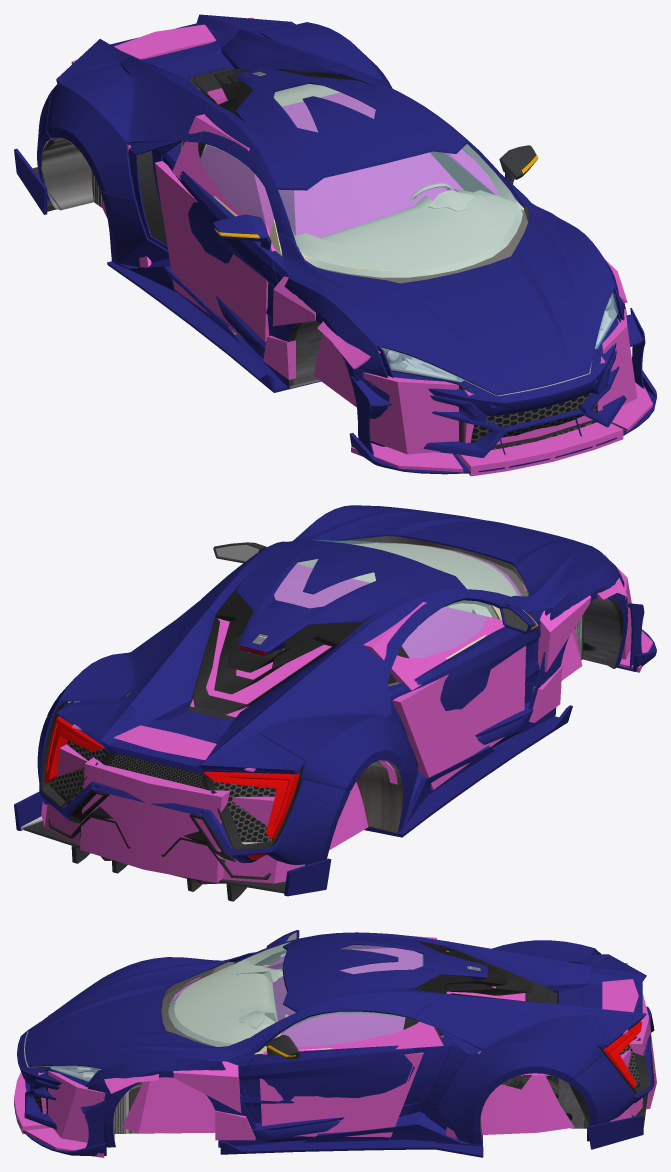
The model's file is Lykan.fbx.
3 renders of one model, top to bottom at view 1: azimuth 30°, elevation 25°; view 2: azimuth 150°, elevation 25°; view 3: azimuth 270°, elevation 25°, orthographic. The views are drawn at different scales.
Visible parts, largest first — view 1: pasted__polySurface84, pasted__polySurface222, pasted__polySurface90, pasted__pasted__pasted__BodyCol1, pasted__DoorFrontRightCol, pasted__pasted__BumperRCol1, pasted__polySurface80, pasted__polySurface2, pasted__polySurface60, polySurface24, pasted__polySurface223, pasted__polySurface85 (+15 smaller); view 2: pasted__polySurface84, pasted__polySurface191, pasted__BumperRCol2, pasted__DoorFrontRightCol, pasted__pasted__pasted__BodyCol1, pasted__polySurface2, pasted__polySurface60, pasted__polySurface80, pasted__polySurface222, pasted__polySurface223, pasted__polySurface16, pasted__SpoilerCol (+8 smaller); view 3: pasted__polySurface84, pasted__polySurface225, pasted__polySurface222, pasted__pasted__pasted__BodyCol1, pasted__DoorFrontLeftCol, pasted__polySurface191, pasted__polySurface82, pasted__polySurface1, pasted__pasted__pasted__BodyCol2, pasted__polySurface90, pasted__polySurface224, pasted__pasted__BumperRCol3 (+12 smaller).
Boxes of the visible parts, x1,y1,x2,y2 form: pasted__polySurface84: (41,14,631,449); pasted__polySurface222: (278,144,523,277); pasted__polySurface90: (344,291,656,474); pasted__pasted__pasted__BodyCol1: (101,88,463,237); pasted__DoorFrontRightCol: (154,161,269,341); pasted__pasted__BumperRCol1: (363,372,458,454); pasted__polySurface80: (46,83,135,198); pasted__polySurface2: (172,114,275,251); pasted__polySurface60: (178,173,282,342); polySurface24: (456,422,623,476); pasted__polySurface223: (200,144,274,232); pasted__polySurface85: (284,278,388,377); pasted__polySurface84: (44,505,629,884); pasted__polySurface191: (14,701,350,901); pasted__BumperRCol2: (80,757,230,882); pasted__DoorFrontRightCol: (392,645,525,789); pasted__pasted__pasted__BodyCol1: (190,564,369,849); pasted__polySurface2: (363,602,504,690); pasted__polySurface60: (416,626,539,737); pasted__polySurface80: (303,715,407,790); pasted__polySurface222: (315,540,521,596); pasted__polySurface223: (402,600,497,658); pasted__polySurface16: (223,796,304,883); pasted__SpoilerCol: (72,724,255,771); pasted__polySurface84: (24,932,646,1157); pasted__polySurface225: (239,1045,414,1130); pasted__polySurface222: (168,942,295,1046); pasted__pasted__pasted__BodyCol1: (273,948,574,1134); pasted__DoorFrontLeftCol: (259,1052,423,1137); pasted__polySurface191: (568,952,654,1149); pasted__polySurface82: (456,1039,603,1094); pasted__polySurface1: (263,1013,443,1054); pasted__pasted__pasted__BodyCol2: (122,977,272,1133); pasted__polySurface90: (14,1023,126,1155); pasted__polySurface224: (280,1012,405,1046); pasted__pasted__BumperRCol3: (48,1071,105,1142).
Size of the model in its own units: 218 by 123 by 485.
